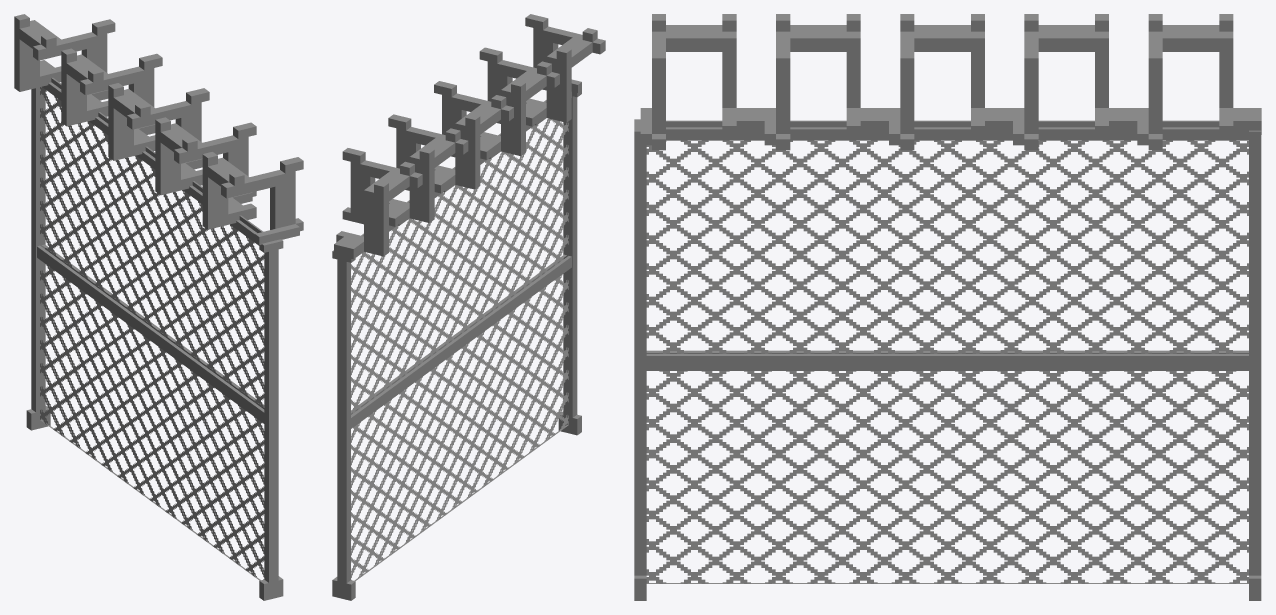
The model's file is barbedWire.fbx.
The picture shows the model from 3 angles, left to right: view 1: azimuth 30°, elevation 25°; view 2: azimuth 150°, elevation 25°; view 3: azimuth 270°, elevation 25°; orthographic projection. The views are drawn at different scales.
Parts seen in each view (by area): view 1: barbedWire_wall, barbedWire_topWire, barbedWire_end, barbedWire_start; view 2: barbedWire_wall, barbedWire_topWire, barbedWire_start, barbedWire_end; view 3: barbedWire_wall, barbedWire_topWire, barbedWire_start, barbedWire_end.
Boxes of the visible parts, left/top/right/bottom form: barbedWire_wall: left=37, top=77, right=272, bottom=580; barbedWire_topWire: left=14, top=14, right=303, bottom=245; barbedWire_end: left=259, top=239, right=283, bottom=600; barbedWire_start: left=26, top=87, right=50, bottom=430; barbedWire_wall: left=351, top=92, right=571, bottom=580; barbedWire_topWire: left=334, top=14, right=605, bottom=259; barbedWire_start: left=332, top=250, right=355, bottom=600; barbedWire_end: left=558, top=90, right=581, bottom=435; barbedWire_wall: left=646, top=120, right=1248, bottom=583; barbedWire_topWire: left=640, top=14, right=1261, bottom=150; barbedWire_start: left=1249, top=130, right=1261, bottom=600; barbedWire_end: left=634, top=119, right=646, bottom=600.
Size of the model in its own units: 95.64 by 503 by 510.
